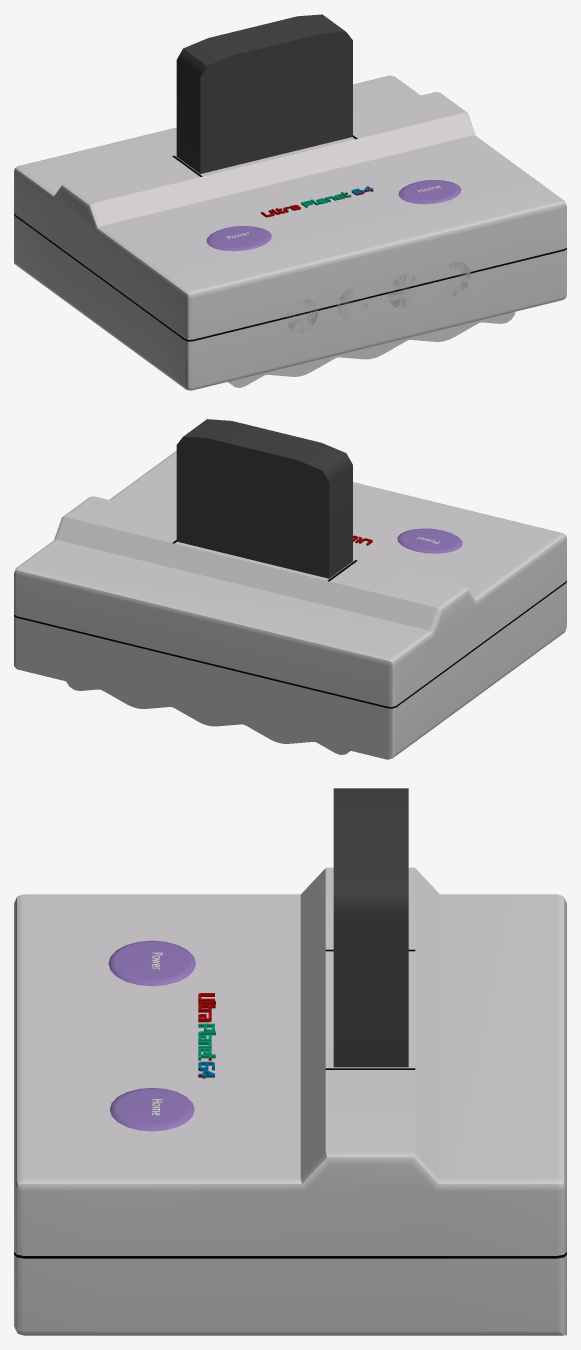
The model's file is GameConsole(Bonus).fbx.
3 renders of one model, top to bottom at view 1: azimuth 30°, elevation 25°; view 2: azimuth 150°, elevation 25°; view 3: azimuth 270°, elevation 25°, orthographic. The views are drawn at different scales.
Visible parts, largest first — view 1: pCube2, polySurface1, Cartridge, polySurface4, polySurface2, polySurface3, pCube3, pCylinder1, pCylinder2, Logo1; view 2: pCube2, polySurface1, Cartridge, pCube3, pCylinder1; view 3: pCube2, polySurface1, Cartridge, pCylinder1, pCylinder2, Logo1.
Boxes of the visible parts, left/top/right/bottom form: pCube2: left=14, top=75, right=566, bottom=389; polySurface1: left=14, top=75, right=566, bottom=390; Cartridge: left=176, top=14, right=352, bottom=173; polySurface4: left=193, top=288, right=558, bottom=386; polySurface2: left=15, top=166, right=565, bottom=390; polySurface3: left=193, top=280, right=557, bottom=341; pCube3: left=228, top=311, right=515, bottom=387; pCylinder1: left=206, top=226, right=271, bottom=251; pCylinder2: left=398, top=180, right=461, bottom=204; Logo1: left=261, top=186, right=373, bottom=217; pCube2: left=14, top=451, right=566, bottom=759; polySurface1: left=14, top=451, right=566, bottom=759; Cartridge: left=176, top=419, right=352, bottom=578; pCube3: left=66, top=681, right=350, bottom=754; pCylinder1: left=397, top=528, right=462, bottom=553; pCube2: left=14, top=867, right=566, bottom=1335; polySurface1: left=14, top=892, right=566, bottom=1335; Cartridge: left=333, top=788, right=408, bottom=1067; pCylinder1: left=108, top=940, right=195, bottom=986; pCylinder2: left=109, top=1087, right=194, bottom=1131; Logo1: left=198, top=993, right=215, bottom=1078.
Bounding box in the file's own units: 6 × 3.66 × 4.8.
